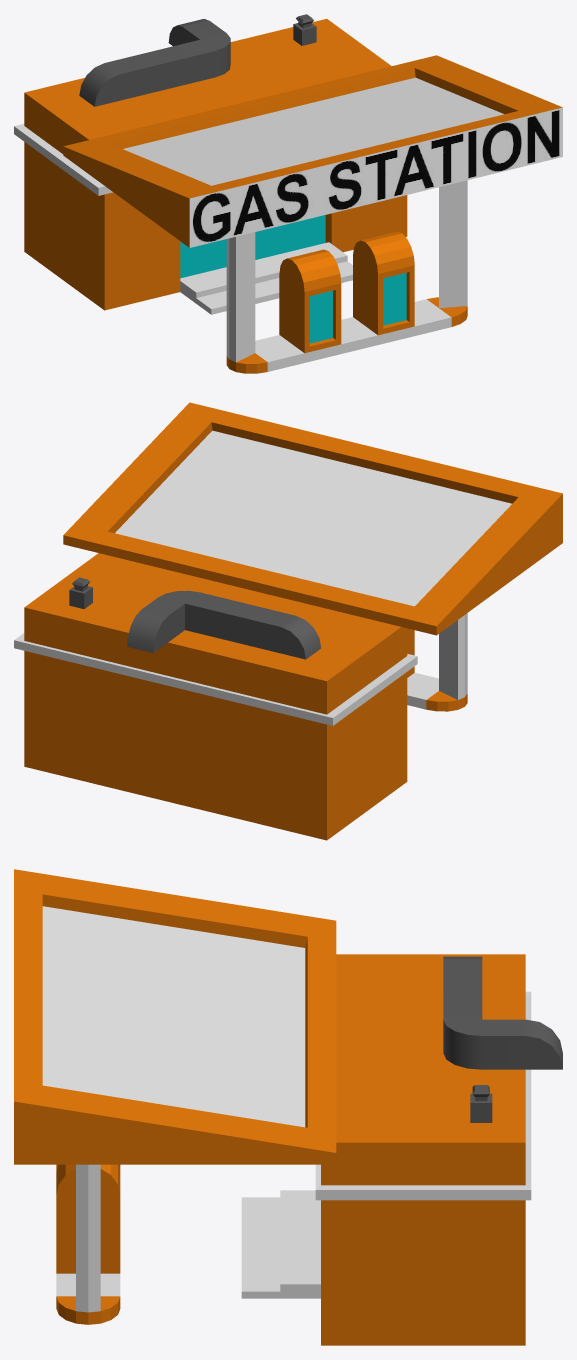
File: gastation.fbx
3 views of the same model, one above another, from view 1: azimuth 30°, elevation 25°; view 2: azimuth 150°, elevation 25°; view 3: azimuth 270°, elevation 25° (orthographic). The views are drawn at different scales.
Parts seen in each view (by area): view 1: roof, market, pomps, ventilation, stairs, flue; view 2: market, roof, ventilation, pomps, flue; view 3: roof, market, pomps, stairs, ventilation, flue.
Part boxes in pixels (x1,y1,x2,y2): roof: (63,55,562,247); market: (14,18,407,310); pomps: (226,180,467,373); ventilation: (79,19,230,106); stairs: (180,242,352,314); flue: (293,14,316,45); market: (14,553,417,840); roof: (63,402,562,635); ventilation: (127,590,321,659); pomps: (407,613,467,711); flue: (69,577,92,608); roof: (14,869,336,1164); market: (315,954,531,1345); pomps: (56,1164,120,1324); stairs: (241,1190,320,1298); ventilation: (443,956,562,1069); flue: (470,1085,492,1122).
Size of the model in its own units: 7.21 by 3.85 by 7.2.
Materials: 6 (1 with a texture image).
